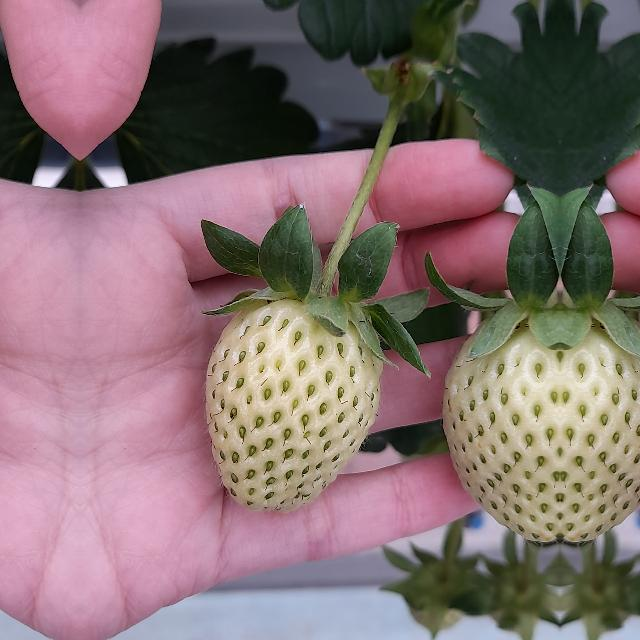Health_25: (205, 299, 382, 513), (438, 298, 560, 546), (560, 298, 640, 546)
